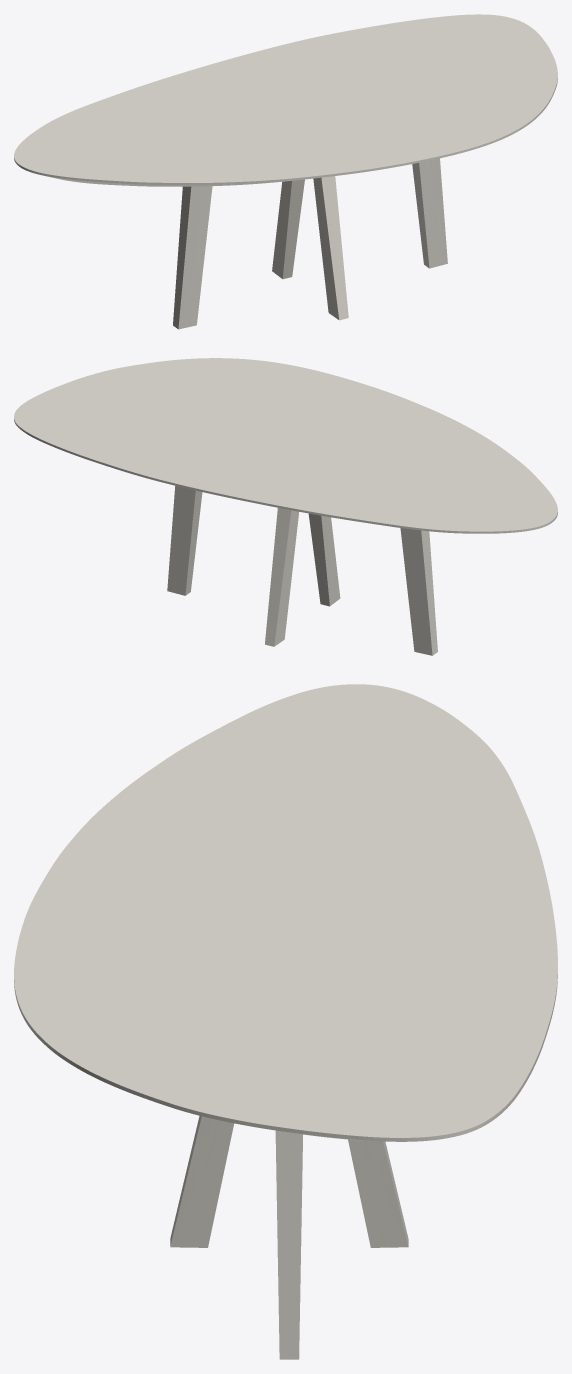
File: pale_pebbletop_facet_searwalnut.glb
3 renders of one model, top to bottom at view 1: azimuth 30°, elevation 25°; view 2: azimuth 150°, elevation 25°; view 3: azimuth 270°, elevation 25°, orthographic. The views are drawn at different scales.
Parts seen in each view (by area): view 1: facet_pebbletop, searwalnut; view 2: facet_pebbletop, searwalnut; view 3: facet_pebbletop, searwalnut.
Part boxes in pixels (box(x1,y1,x2,y2)): facet_pebbletop: box(14, 14, 557, 186); searwalnut: box(173, 158, 447, 329); facet_pebbletop: box(14, 358, 557, 533); searwalnut: box(167, 486, 437, 655); facet_pebbletop: box(14, 684, 557, 1141); searwalnut: box(170, 1115, 408, 1359).
Size of the model in its own units: 7.5 by 2.5 by 3.8.
1 material, 1 textured.
